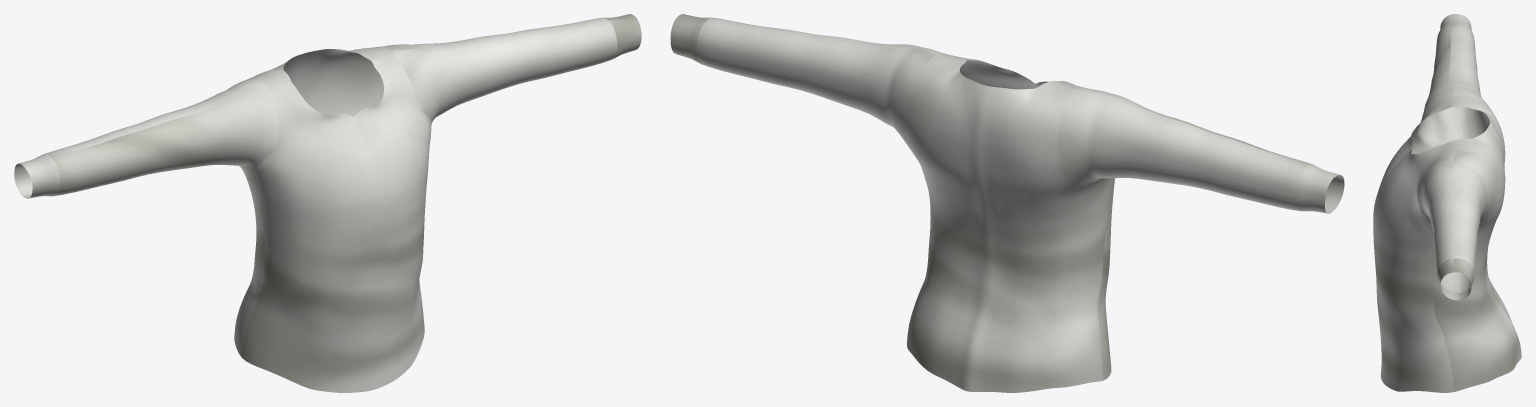
Rendered from huku02.fbx.
3 views of the same model, side by side, from view 1: azimuth 30°, elevation 25°; view 2: azimuth 150°, elevation 25°; view 3: azimuth 270°, elevation 25° (orthographic). The views are drawn at different scales.
Parts seen in each view (by area): view 1: Huku02; view 2: Huku02; view 3: Huku02.
Part boxes in pixels (box(x1,y1,x2,y2)): Huku02: box(14, 14, 641, 392); Huku02: box(670, 14, 1344, 392); Huku02: box(1373, 14, 1521, 392).
Bounding box in the file's own units: 120 × 54.87 × 29.11.
